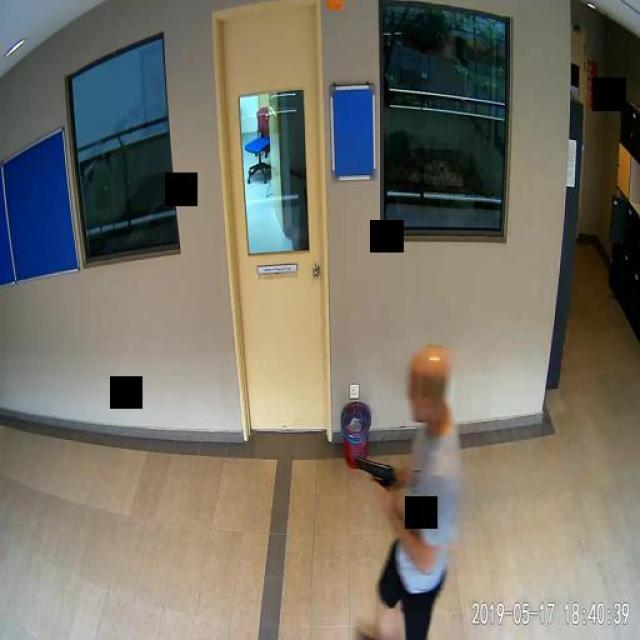gun: (354, 455, 394, 501)
